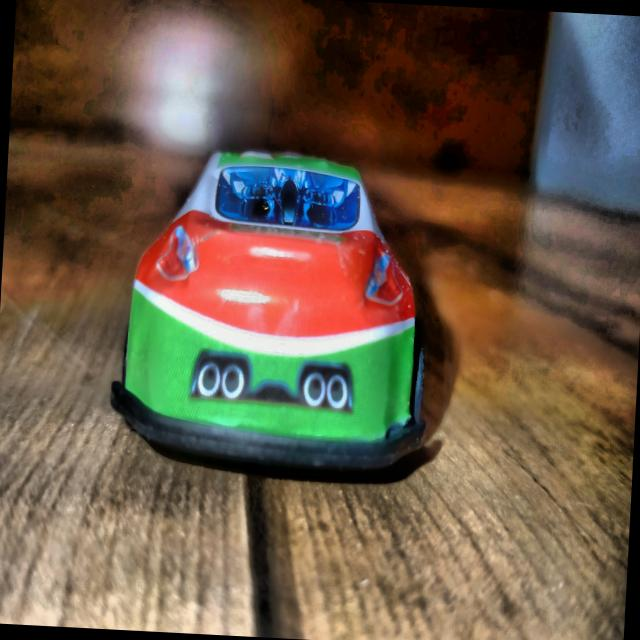Car: (109, 145, 438, 474)
